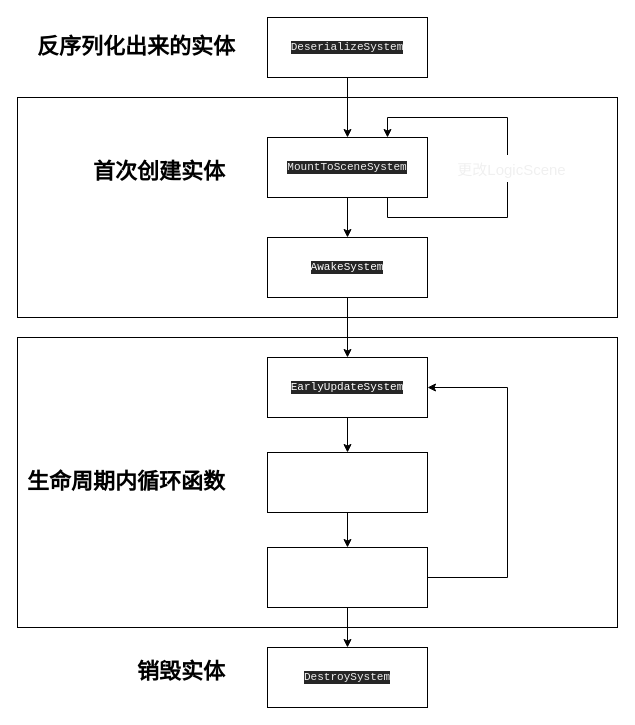
Image size: 635x725. Some labels were removed from this diagram. Each missing label, with the centre of its shape:
LateUpdateSystem: the point at 347,577
UpdateSystem: the point at 347,482
